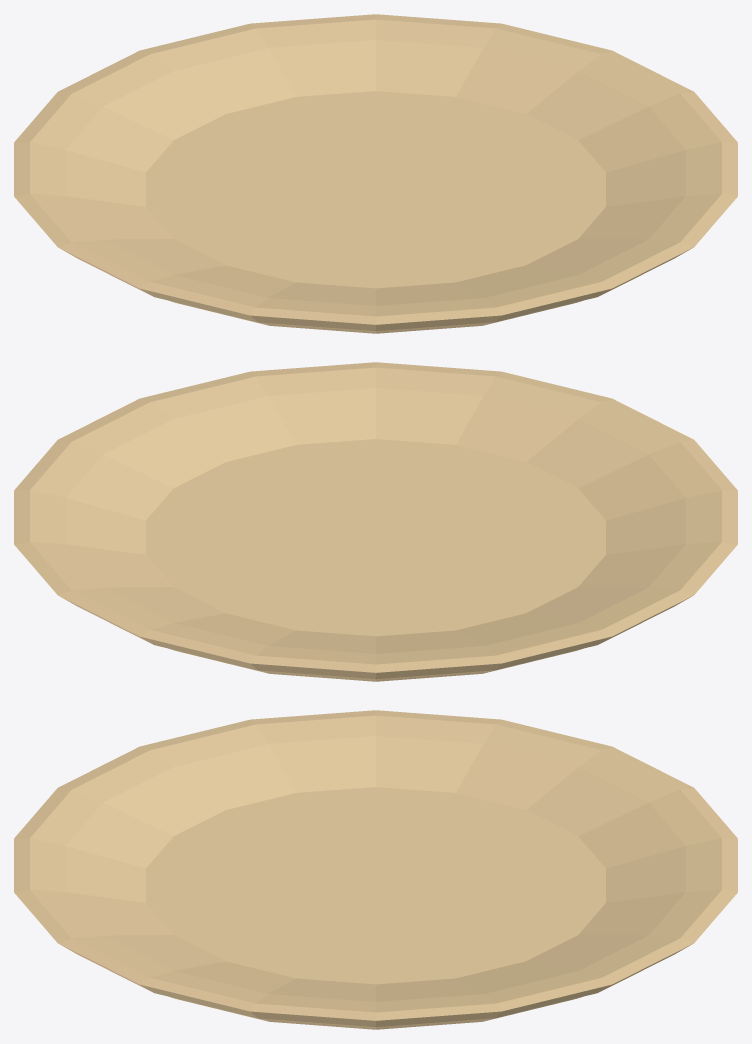
Rendered from Plate.FBX.
3 renders of one model, top to bottom at view 1: azimuth 30°, elevation 25°; view 2: azimuth 150°, elevation 25°; view 3: azimuth 270°, elevation 25°, orthographic.
Parts seen in each view (by area): view 1: Cylinder003; view 2: Cylinder003; view 3: Cylinder003.
Boxes of the visible parts, left/top/right/bottom form: Cylinder003: left=14, top=14, right=737, bottom=333; Cylinder003: left=14, top=362, right=737, bottom=681; Cylinder003: left=14, top=710, right=737, bottom=1029.
Bounding box in the file's own units: 12.69 × 0.8175 × 12.5.
